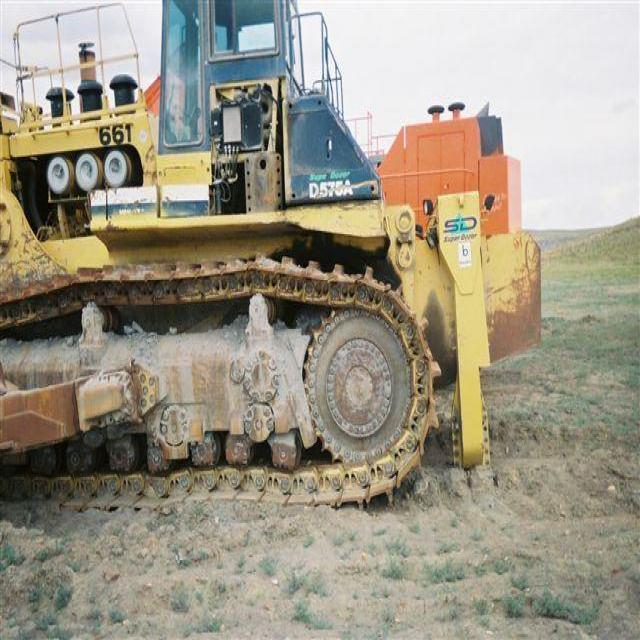Bulldozer: (7, 6, 481, 569)
